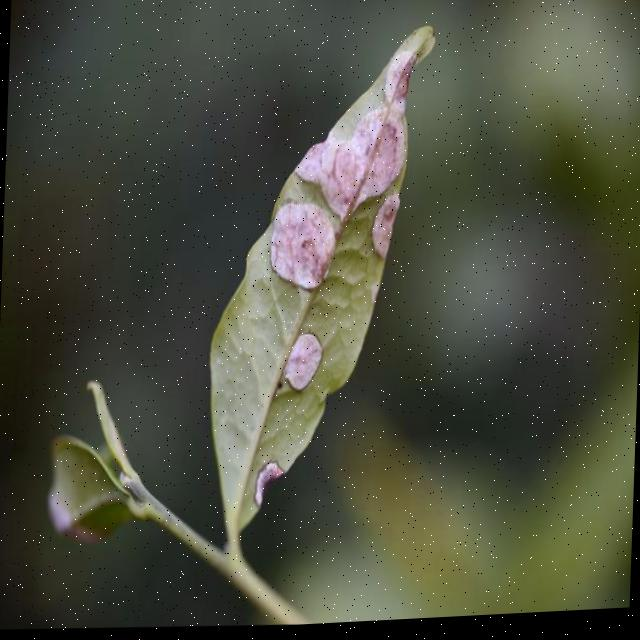Tea cake: (304, 49, 414, 199), (270, 199, 342, 290), (286, 332, 332, 401), (252, 455, 287, 519), (372, 196, 404, 261)
